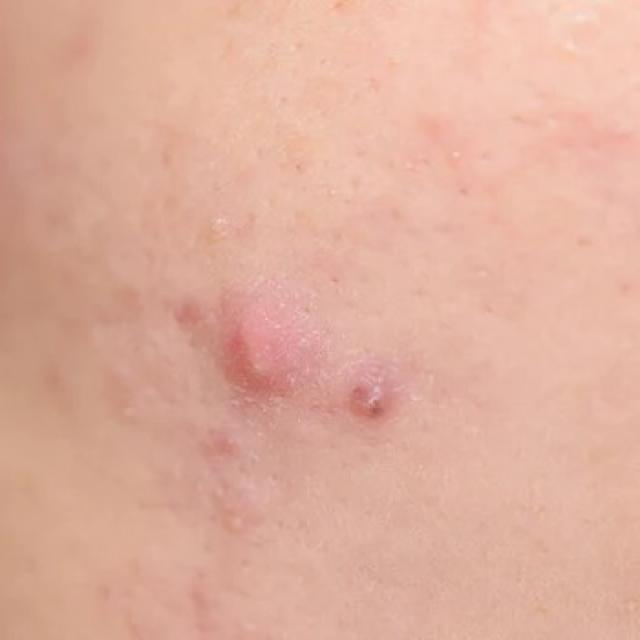nodule: (223, 306, 298, 396)
